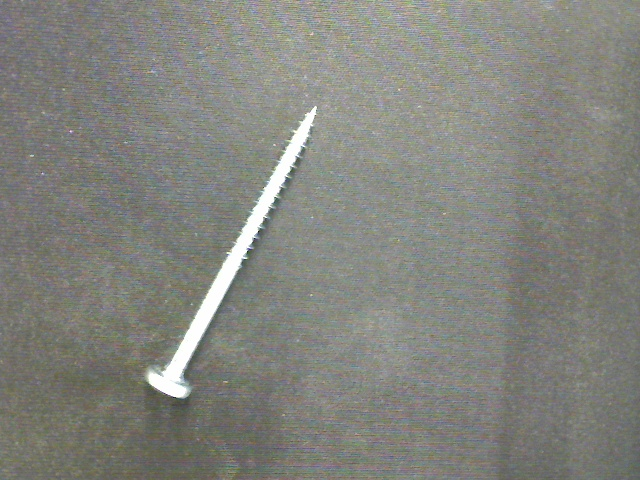Screw: (144, 105, 318, 402)
